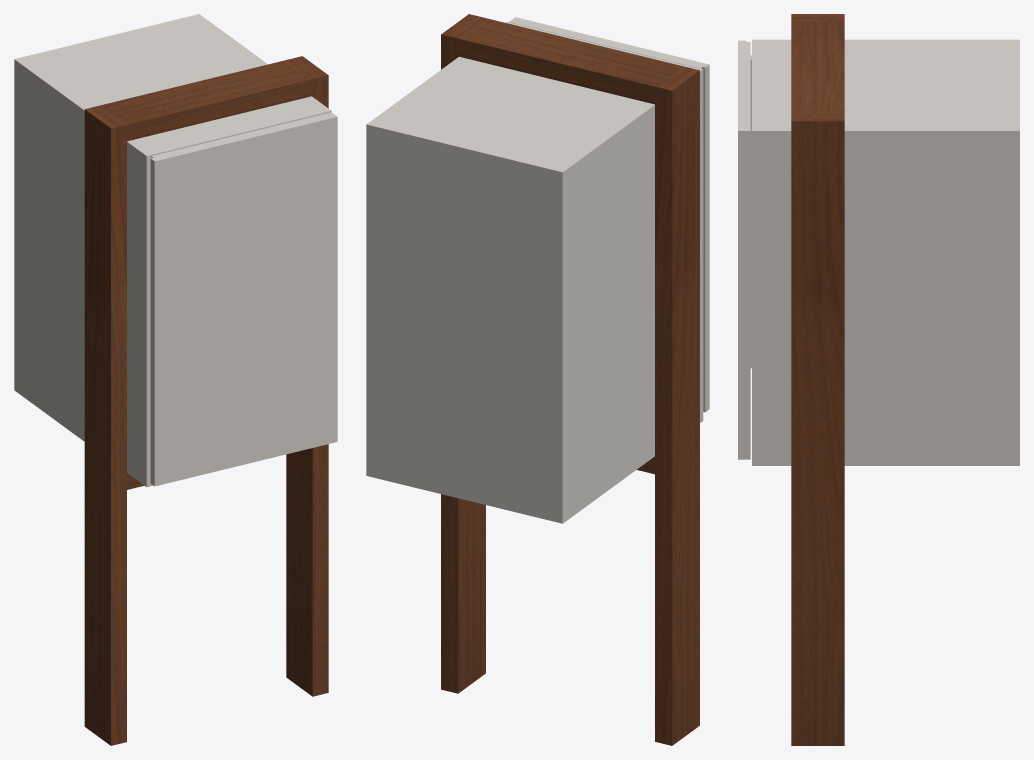
File: de-boxstand_walnut.fbx
3 renders of one model, left to right at view 1: azimuth 30°, elevation 25°; view 2: azimuth 150°, elevation 25°; view 3: azimuth 270°, elevation 25°, orthographic. The views are drawn at different scales.
Parts seen in each view (by area): view 1: da-boxstand-walnut; view 2: da-boxstand-walnut; view 3: da-boxstand-walnut.
Boxes of the visible parts, <box> form: da-boxstand-walnut: <box>14,14,337,745</box>; da-boxstand-walnut: <box>366,14,709,745</box>; da-boxstand-walnut: <box>738,14,1019,745</box>.
Bounding box in the file's own units: 40.6 × 110 × 45.
Materials: 3 (2 with a texture image).
